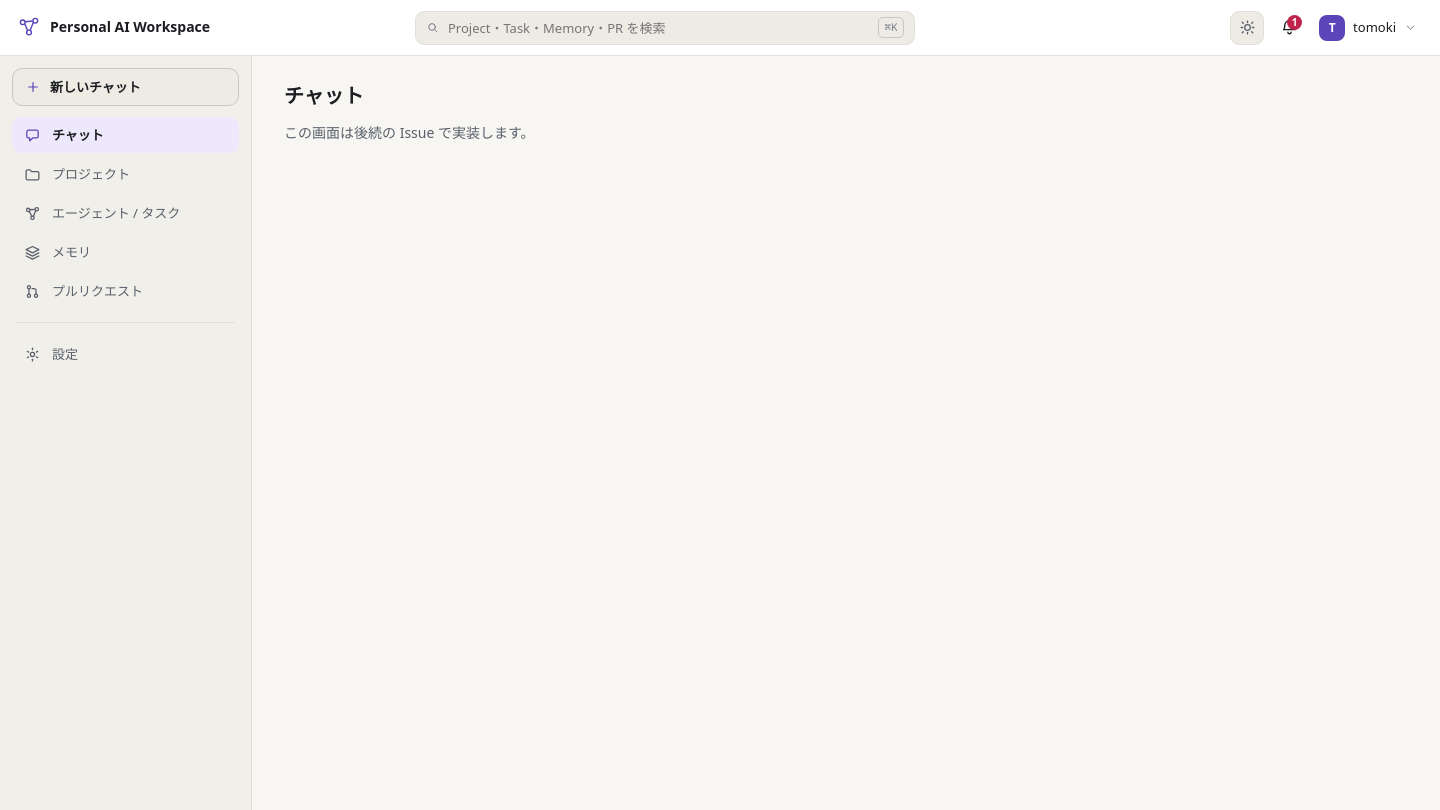
Scenario: pending device approvals as notifications › shows a device waiting for approval and links to the step-up screen
Click the button named "通知 1 件未読".
click(1289, 28)  # box [1272,10,1306,44]
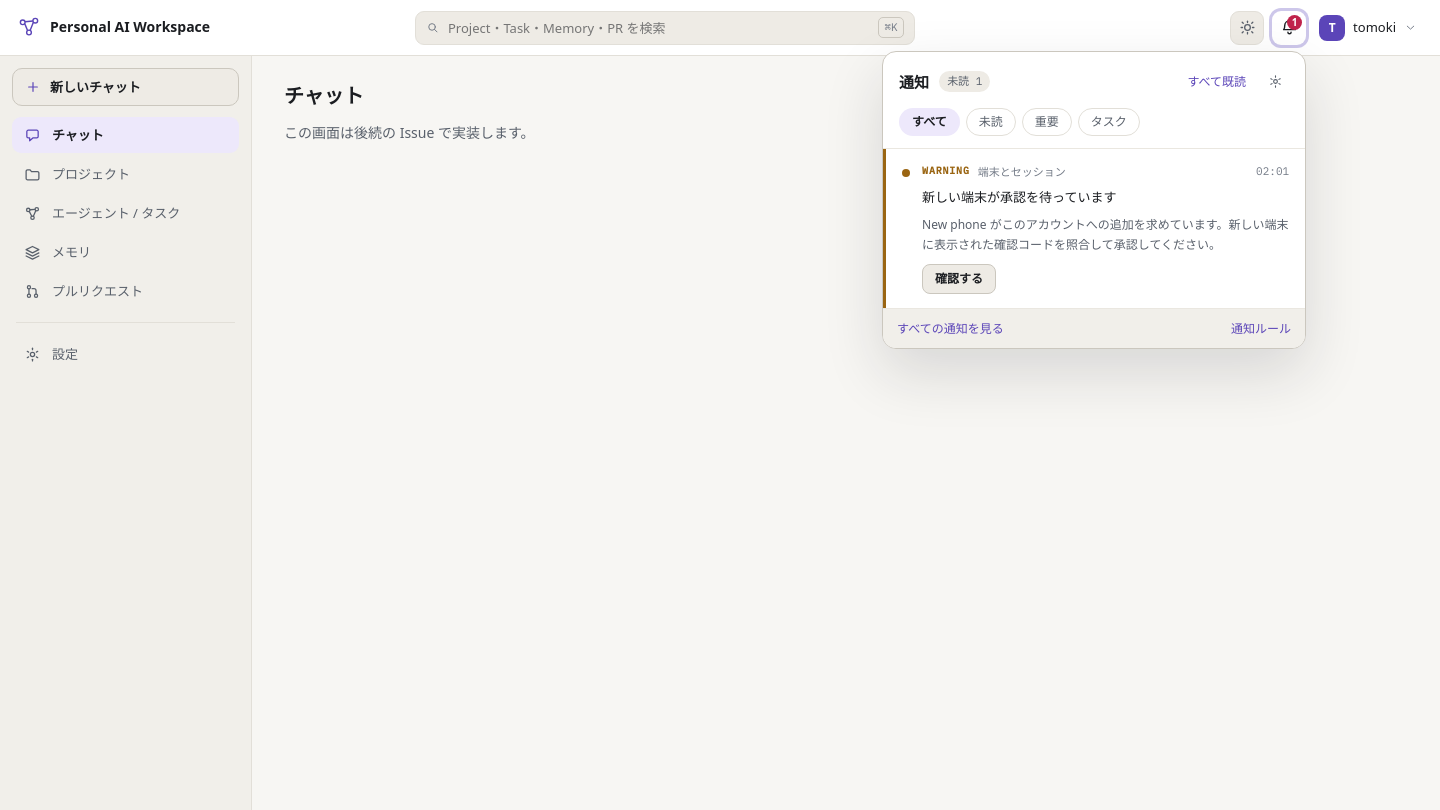
expect the text "新しい端末が承認を待っています" is shown: met, box [922,188,1116,206]
expect the text "New phone がこのアカウントへの追加を求めています。新しい端末に表示された確認コードを照合して承認してください。" is shown: met, box [922,215,1289,256]
expect the text "WARNING" is shown: met, box [922,163,970,179]
Click the link "確認する".
click(959, 279)  # box [922,264,996,294]
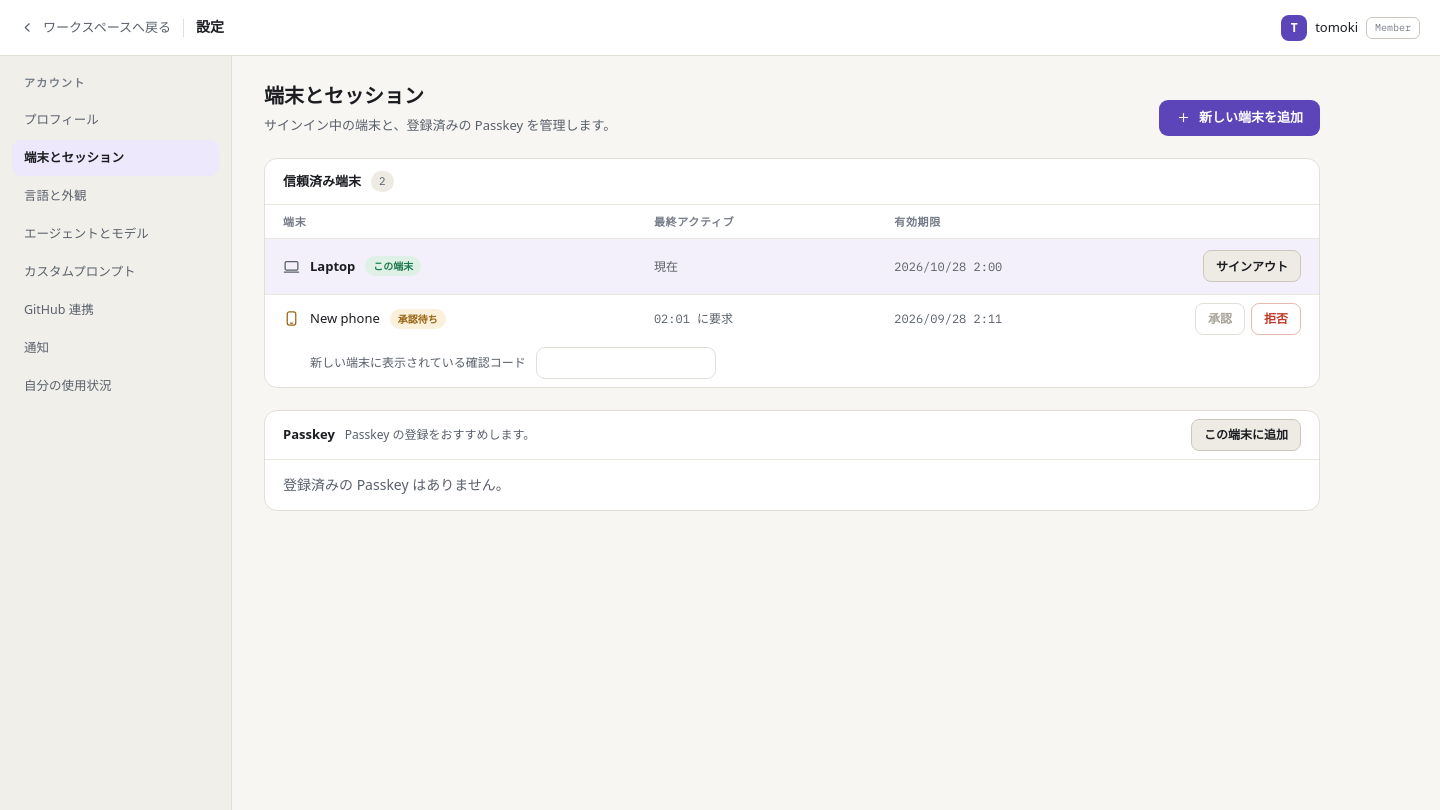
expect the navigation bar named "設定メニュー" is shown: met, box [0,56,232,809]
